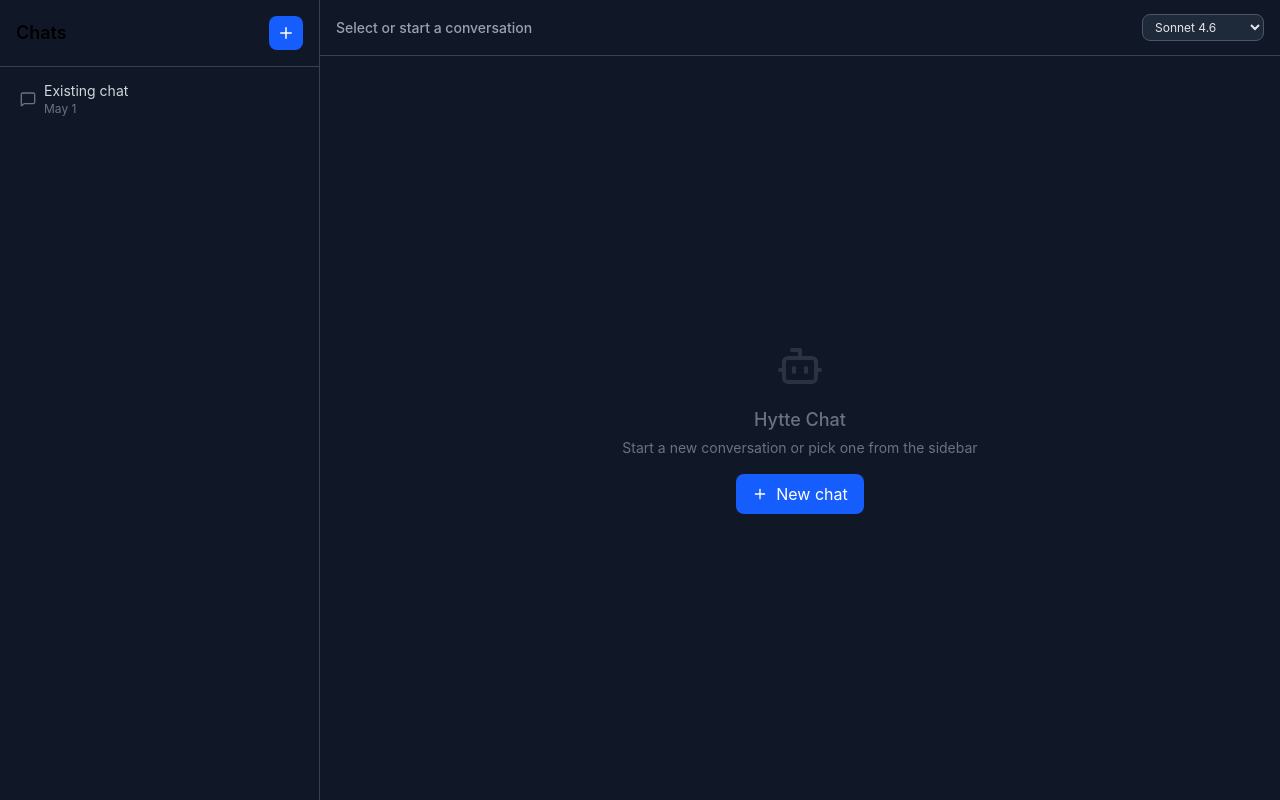
Test case: Chat – streaming send › clicking Stop before any tokens arrive removes the empty assistant placeholder
The image size is (1280, 800).
Click the text "Existing chat" at (86, 90), box 44,82 -> 128,99
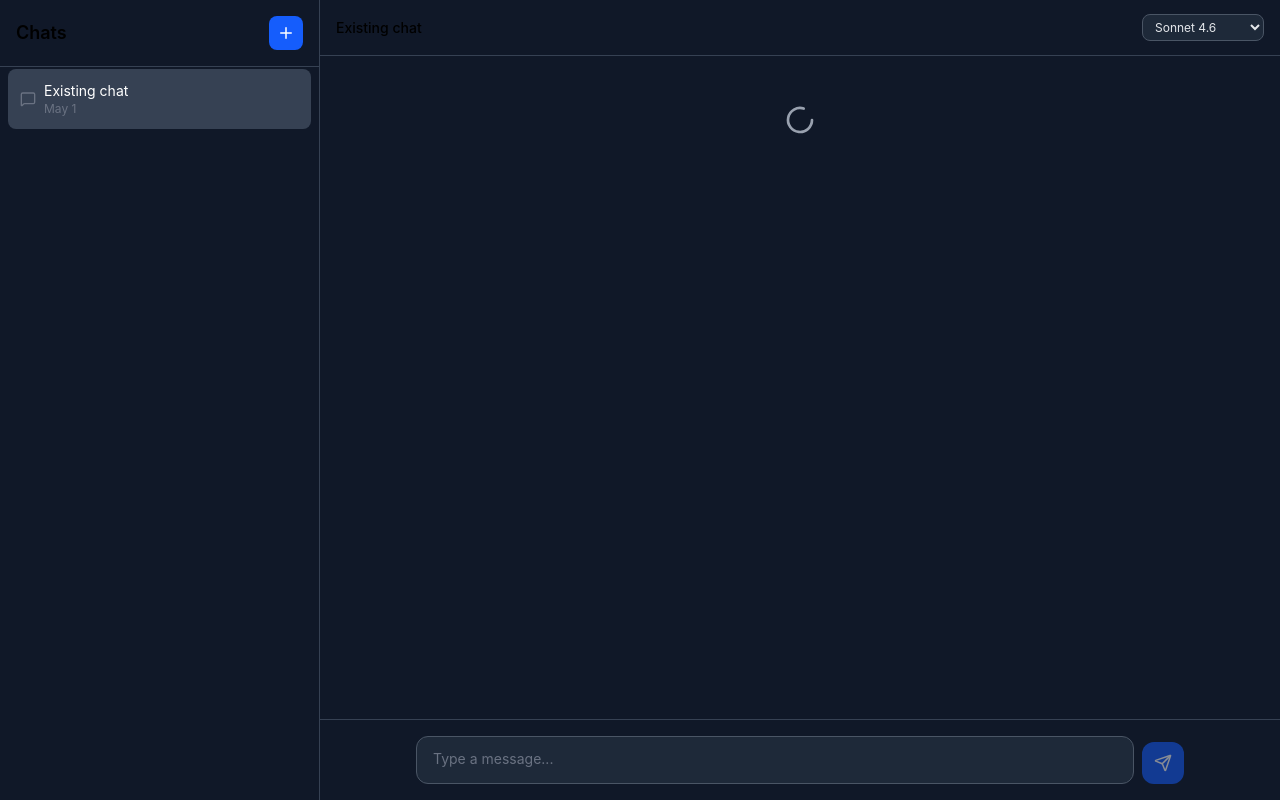
Check: the text box with placeholder "Type a message..." is shown
Type "Long question" into the text box with placeholder "Type a message..." at (775, 760), box 416,736 -> 1134,784
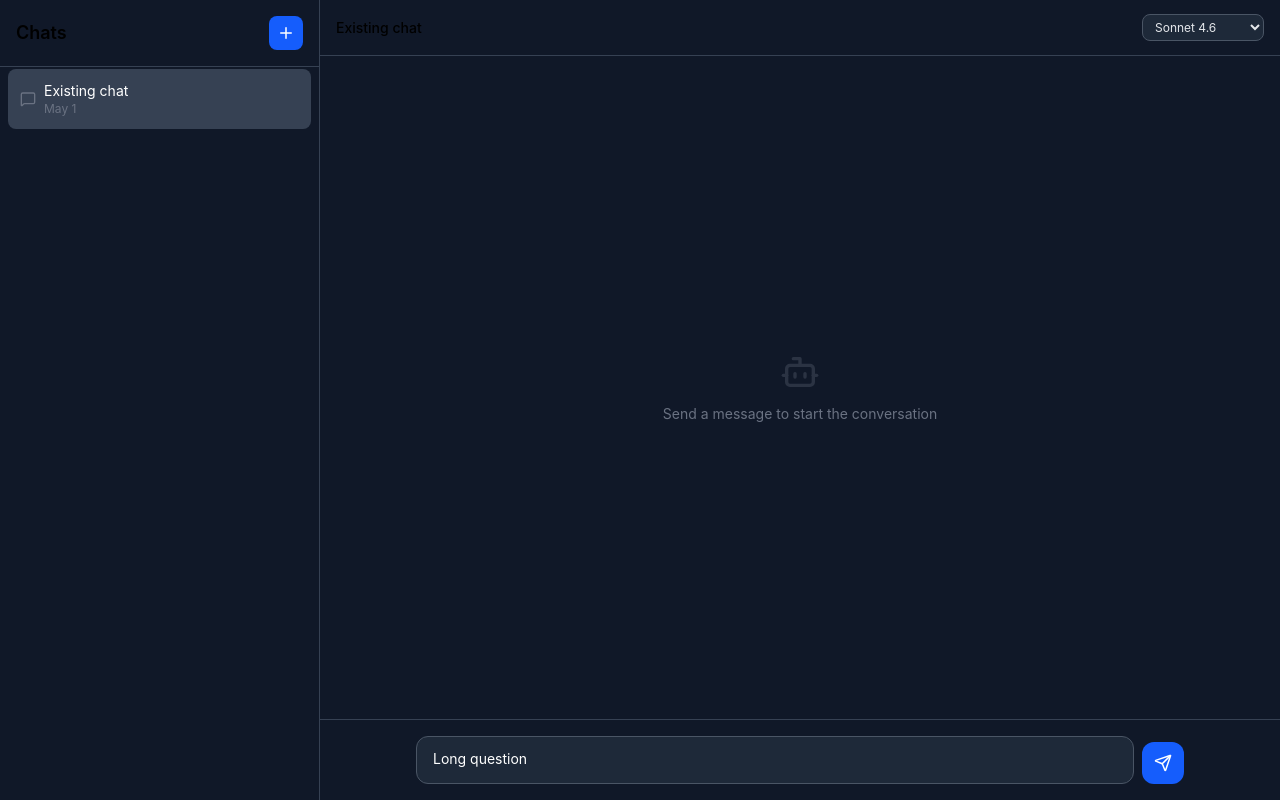
Click the button with test id "chat-send-button" at (1163, 763), box 1142,742 -> 1184,784
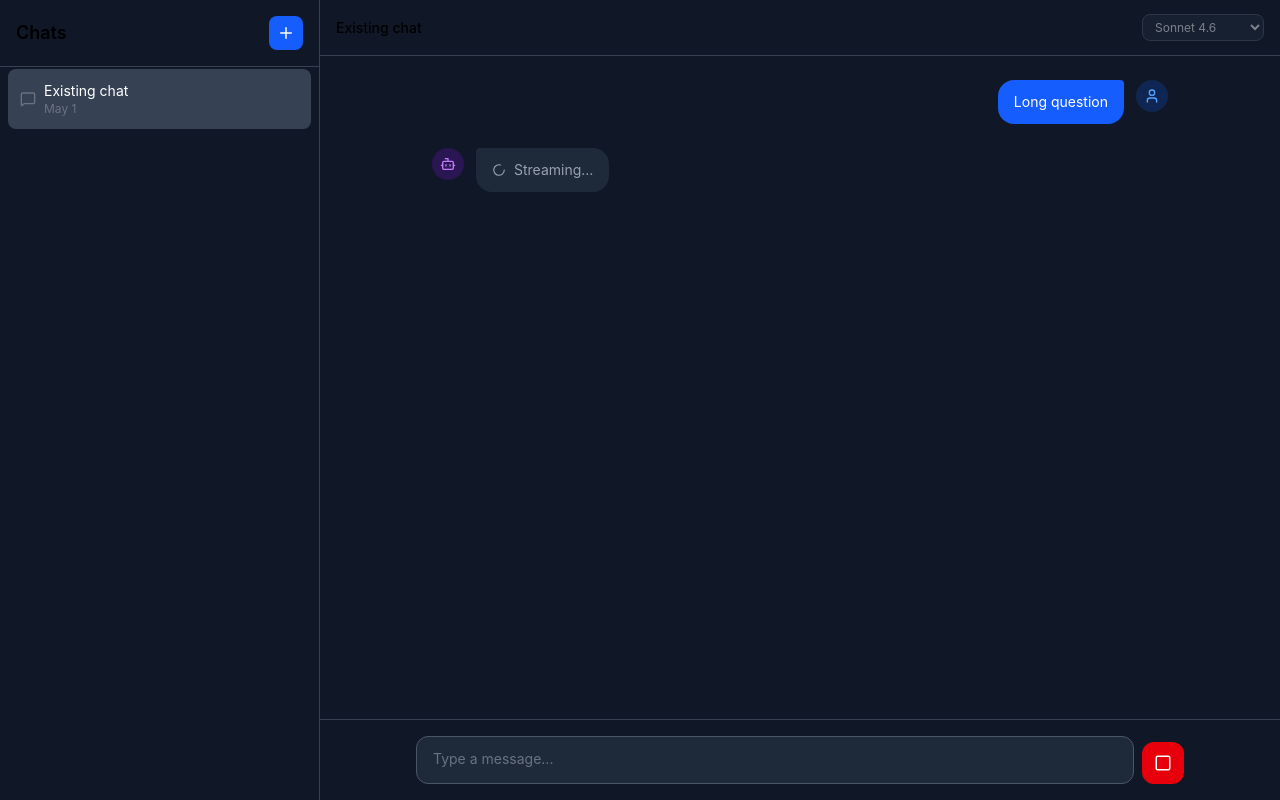
Check: the text "Streaming…" is shown, box 514,160 -> 593,180
// Click Stop while the bubble is still empty.
Click the button with test id "chat-stop-button" at (1163, 763), box 1142,742 -> 1184,784
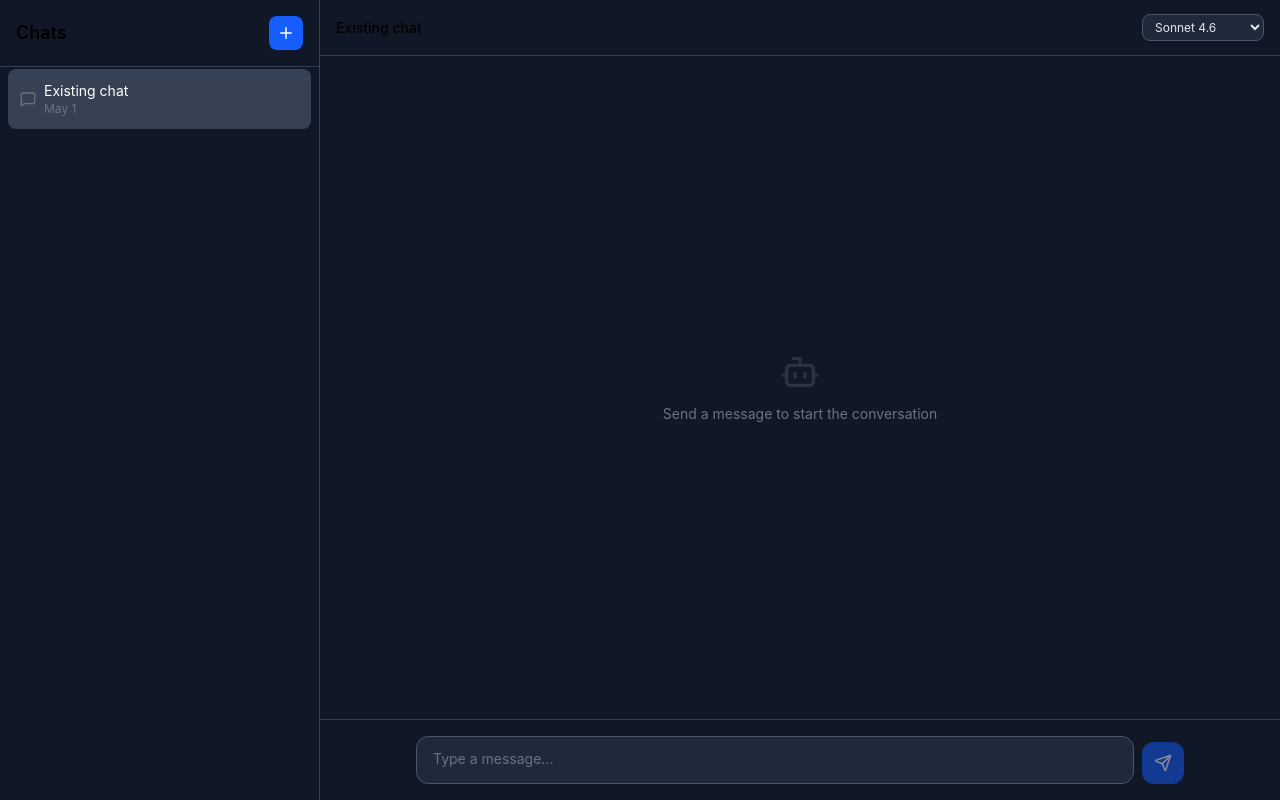
Check: the text "Streaming…" is gone
